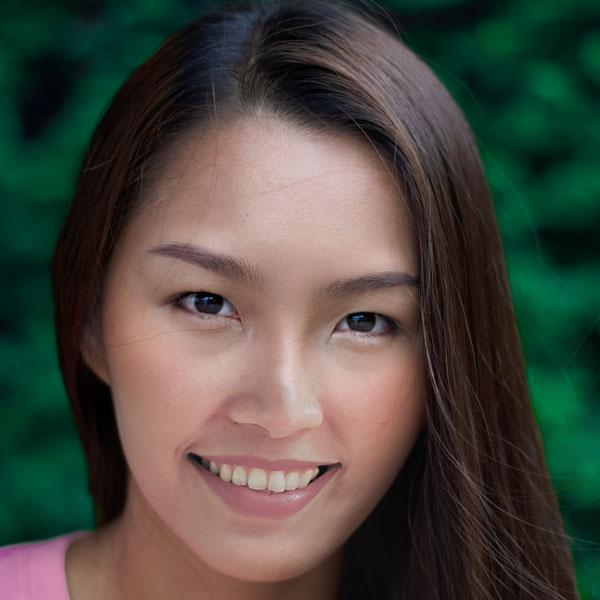Eyes: (156, 273, 252, 338), (321, 298, 409, 354)
